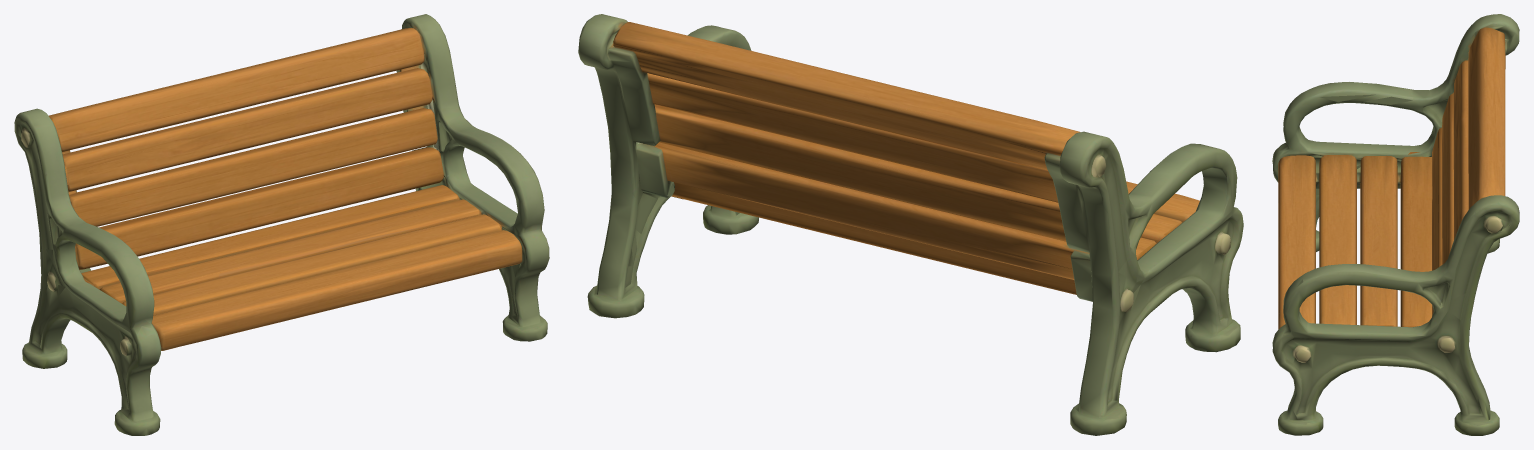
The model's file is bench.glb.
3 renders of one model, left to right at view 1: azimuth 30°, elevation 25°; view 2: azimuth 150°, elevation 25°; view 3: azimuth 270°, elevation 25°, orthographic. The views are drawn at different scales.
Visible parts, largest first — view 1: tripo_node_48c99fe0-4f2e-4104-b712-3fbe3b730f4a; view 2: tripo_node_48c99fe0-4f2e-4104-b712-3fbe3b730f4a; view 3: tripo_node_48c99fe0-4f2e-4104-b712-3fbe3b730f4a.
Part boxes in pixels (bbox=[...]): tripo_node_48c99fe0-4f2e-4104-b712-3fbe3b730f4a: bbox=[14, 14, 549, 435]; tripo_node_48c99fe0-4f2e-4104-b712-3fbe3b730f4a: bbox=[578, 14, 1243, 435]; tripo_node_48c99fe0-4f2e-4104-b712-3fbe3b730f4a: bbox=[1272, 14, 1519, 435].
Bounding box in the file's own units: 0.98 × 0.5245 × 0.5137.
Materials: 1 (1 with a texture image).
